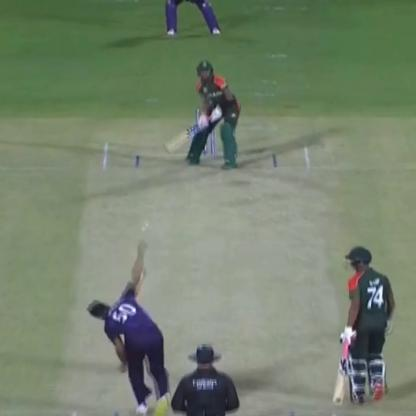ball: (134, 226, 148, 233), (141, 218, 153, 226)
bat: (155, 111, 219, 155), (330, 332, 356, 413)
pitch: (59, 140, 345, 413)
